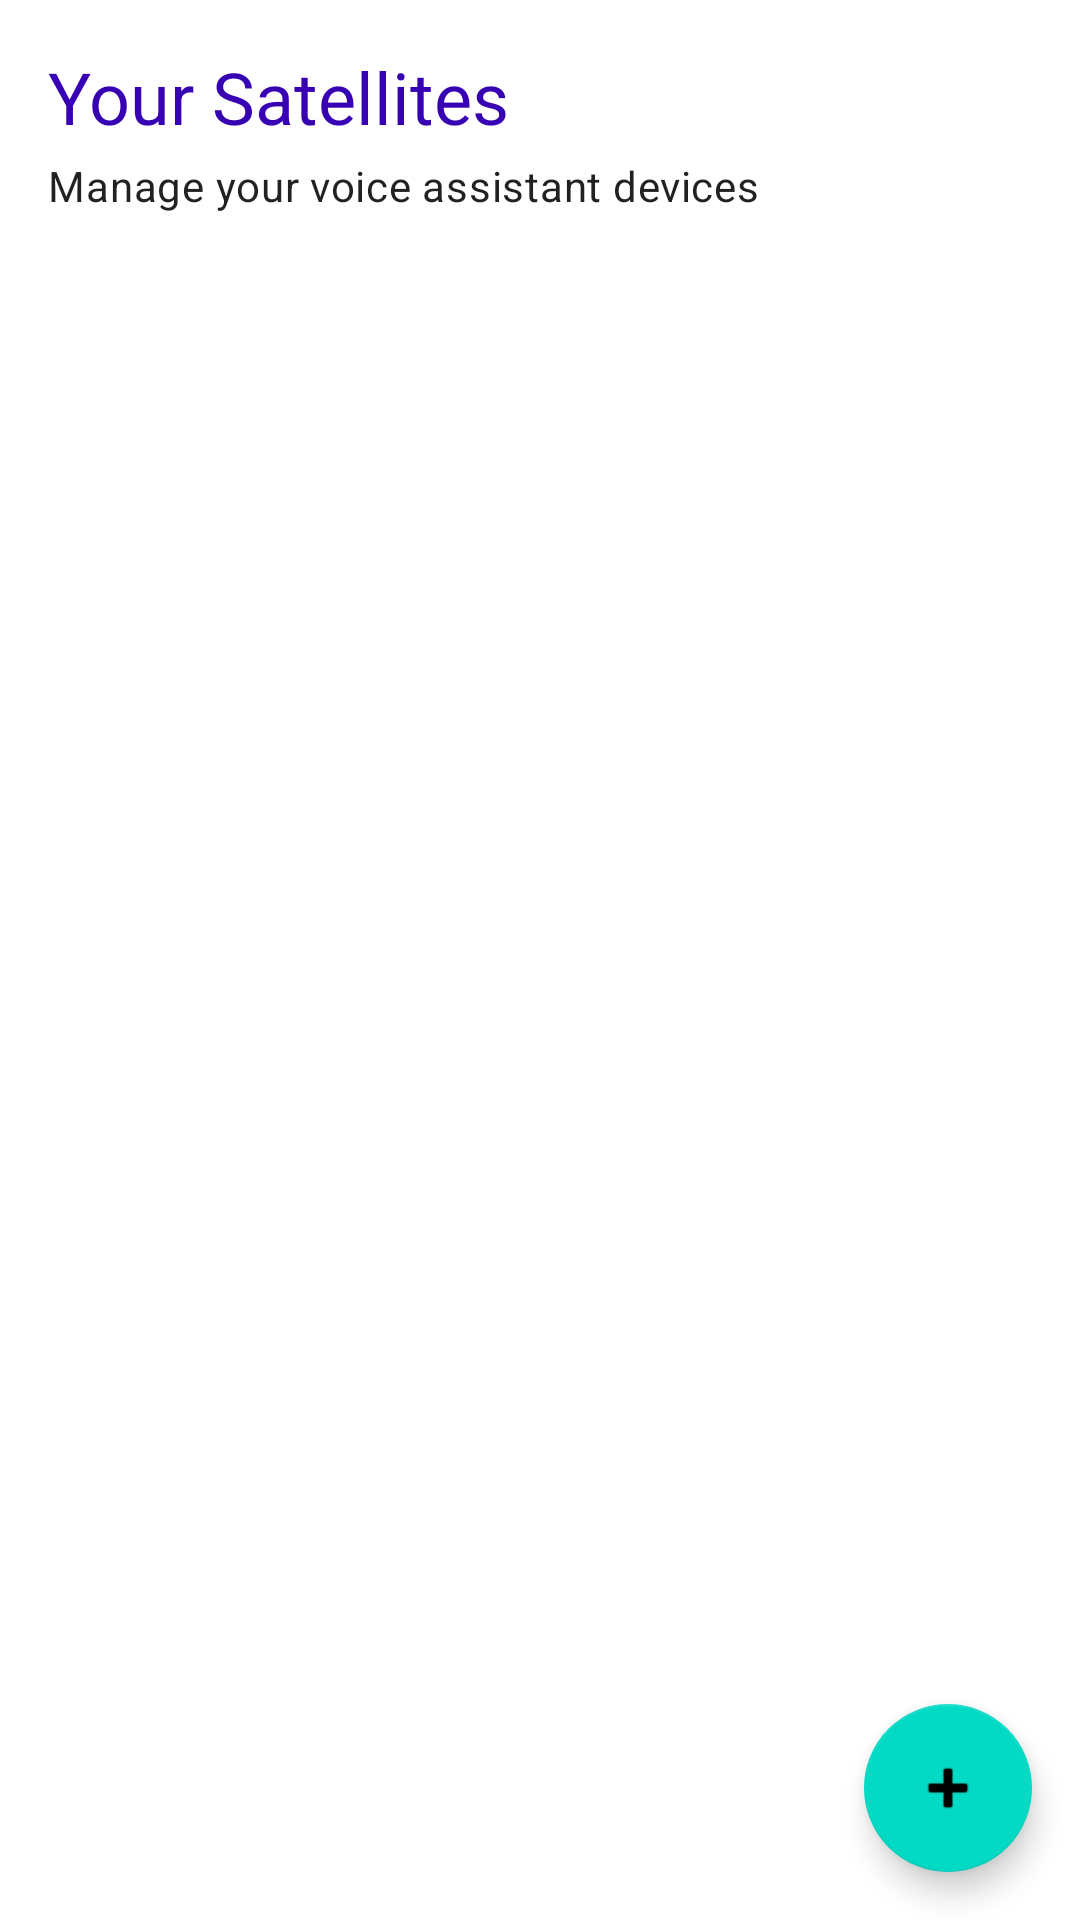

Icons on this 1080×1920 Android screen, each with its box as box(x1, y1, x2, y2):
Add Satellite: box(864, 1704, 1032, 1872)
